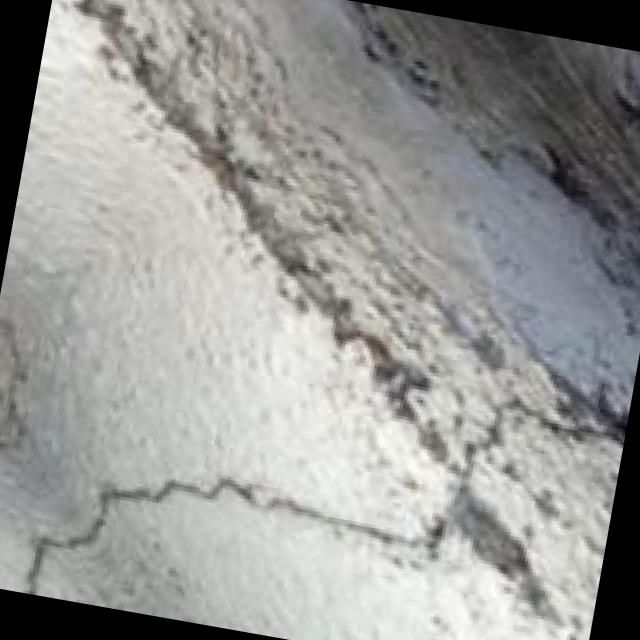crack: (38, 273, 636, 640)
